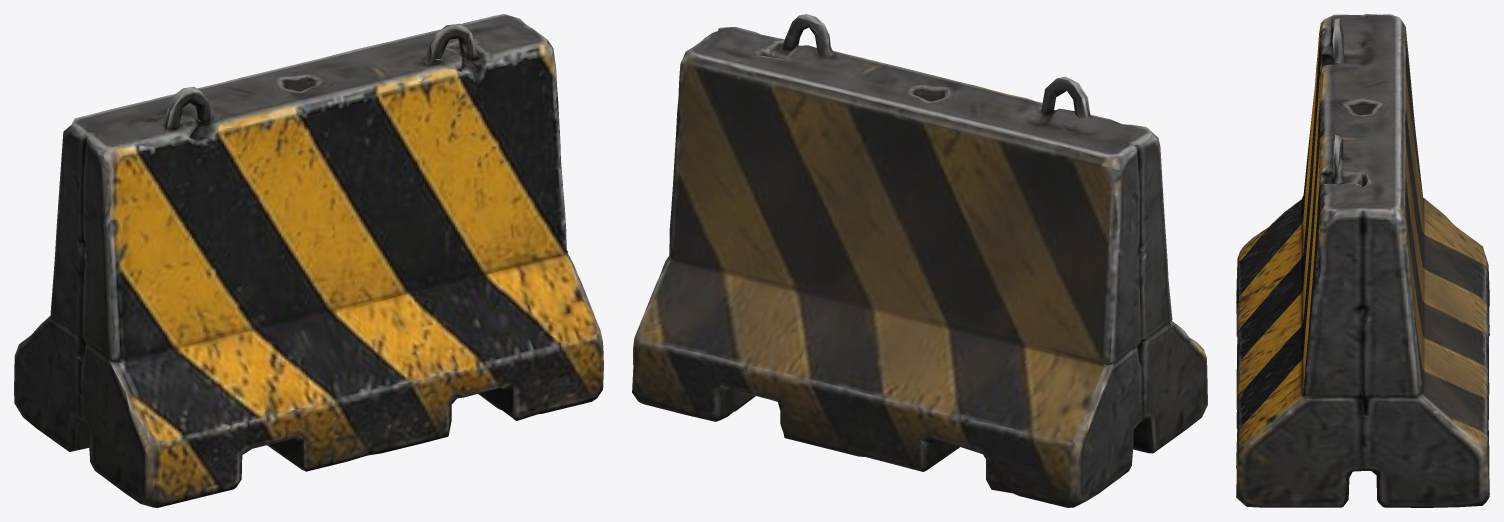
File: hazard_block_barrier.glb
The picture shows the model from 3 angles, left to right: view 1: azimuth 30°, elevation 25°; view 2: azimuth 150°, elevation 25°; view 3: azimuth 270°, elevation 25°; orthographic projection. The views are drawn at different scales.
Parts seen in each view (by area): view 1: mesh_node; view 2: mesh_node; view 3: mesh_node.
Boxes of the visible parts, x1,y1,x2,y2 form: mesh_node: (14,14,603,507); mesh_node: (632,14,1207,507); mesh_node: (1236,14,1489,507).
Size of the model in its own units: 1.32 by 1 by 0.6991.
Materials: 1 (1 with a texture image).
